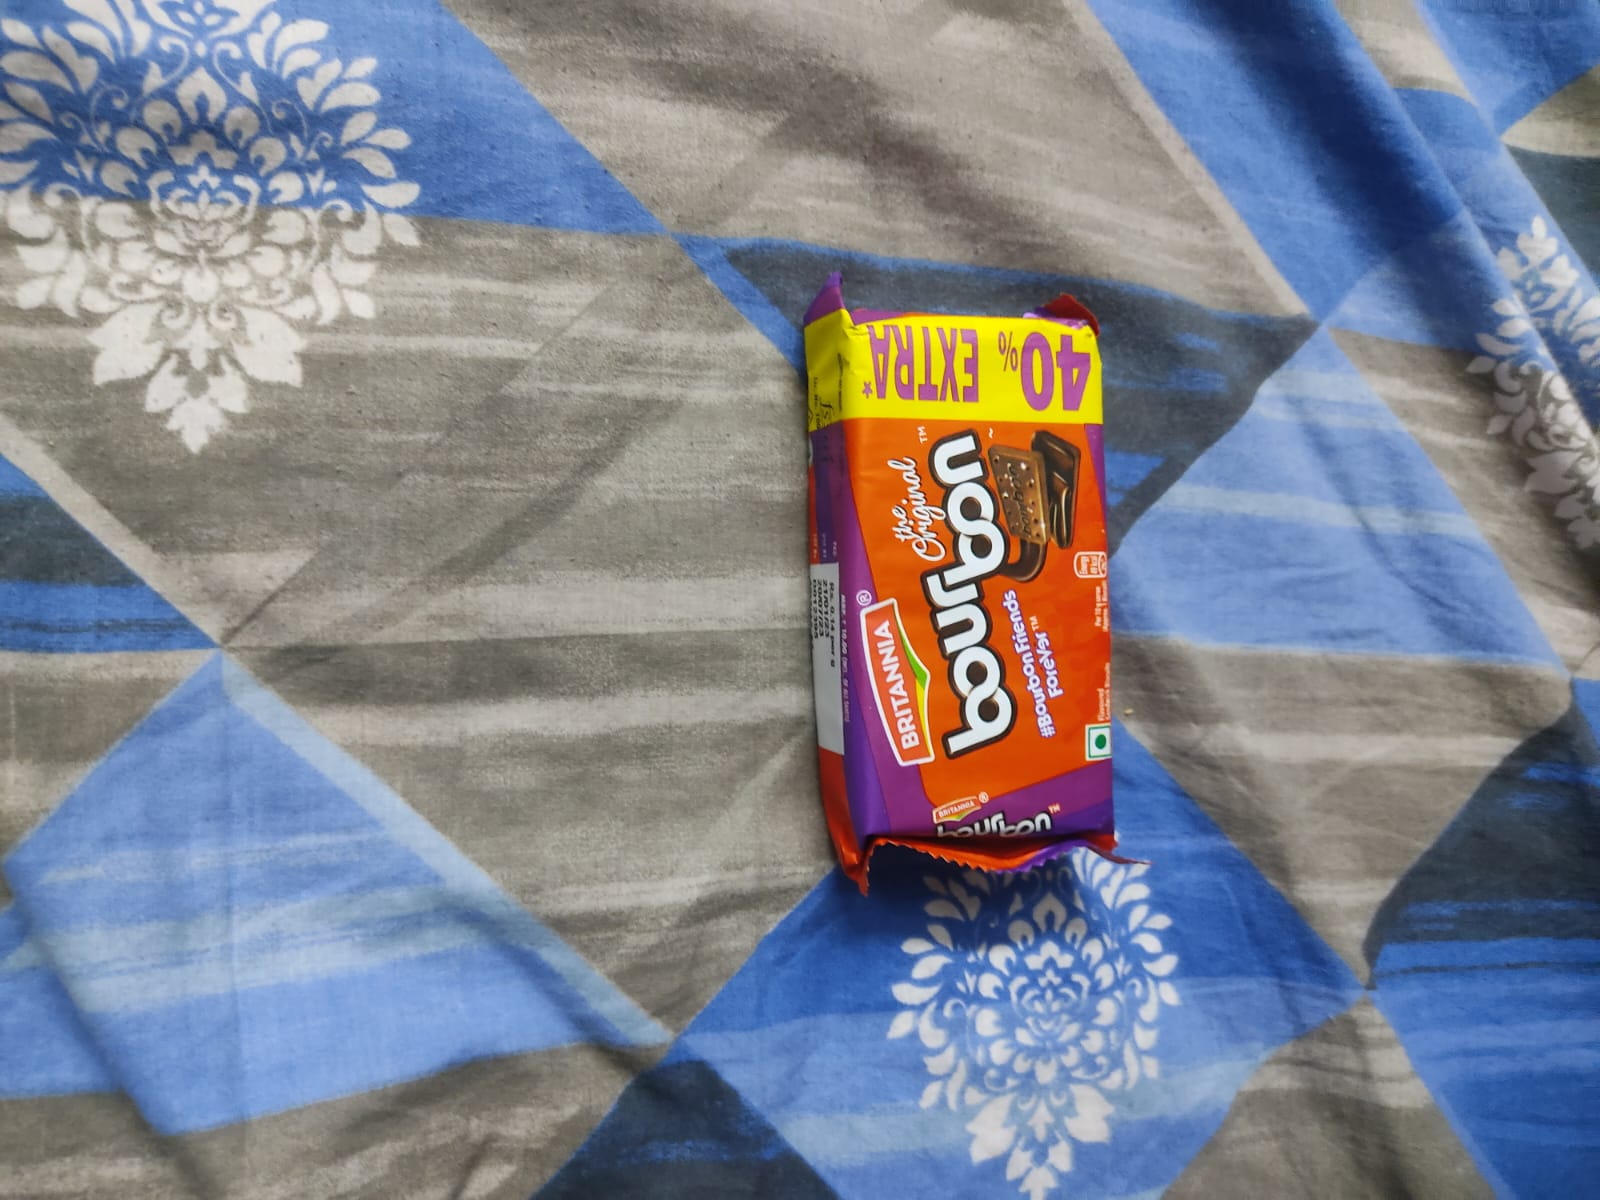010_Bourbon: (799, 314, 1119, 839)
